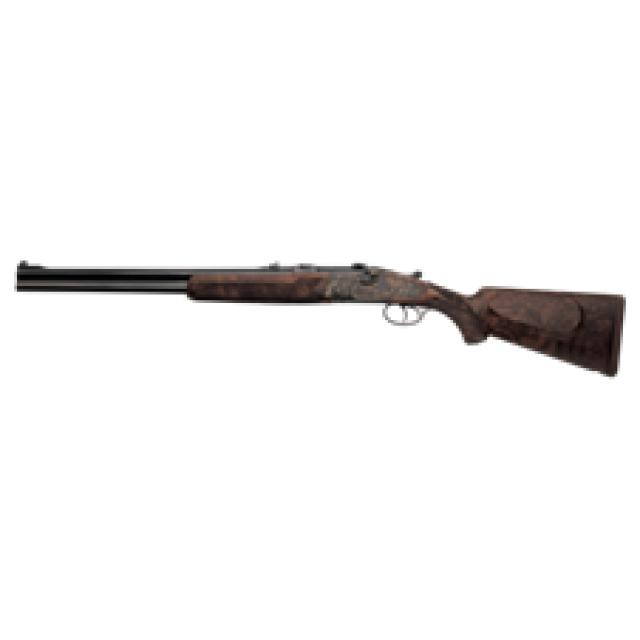rifle: (8, 249, 633, 398)
